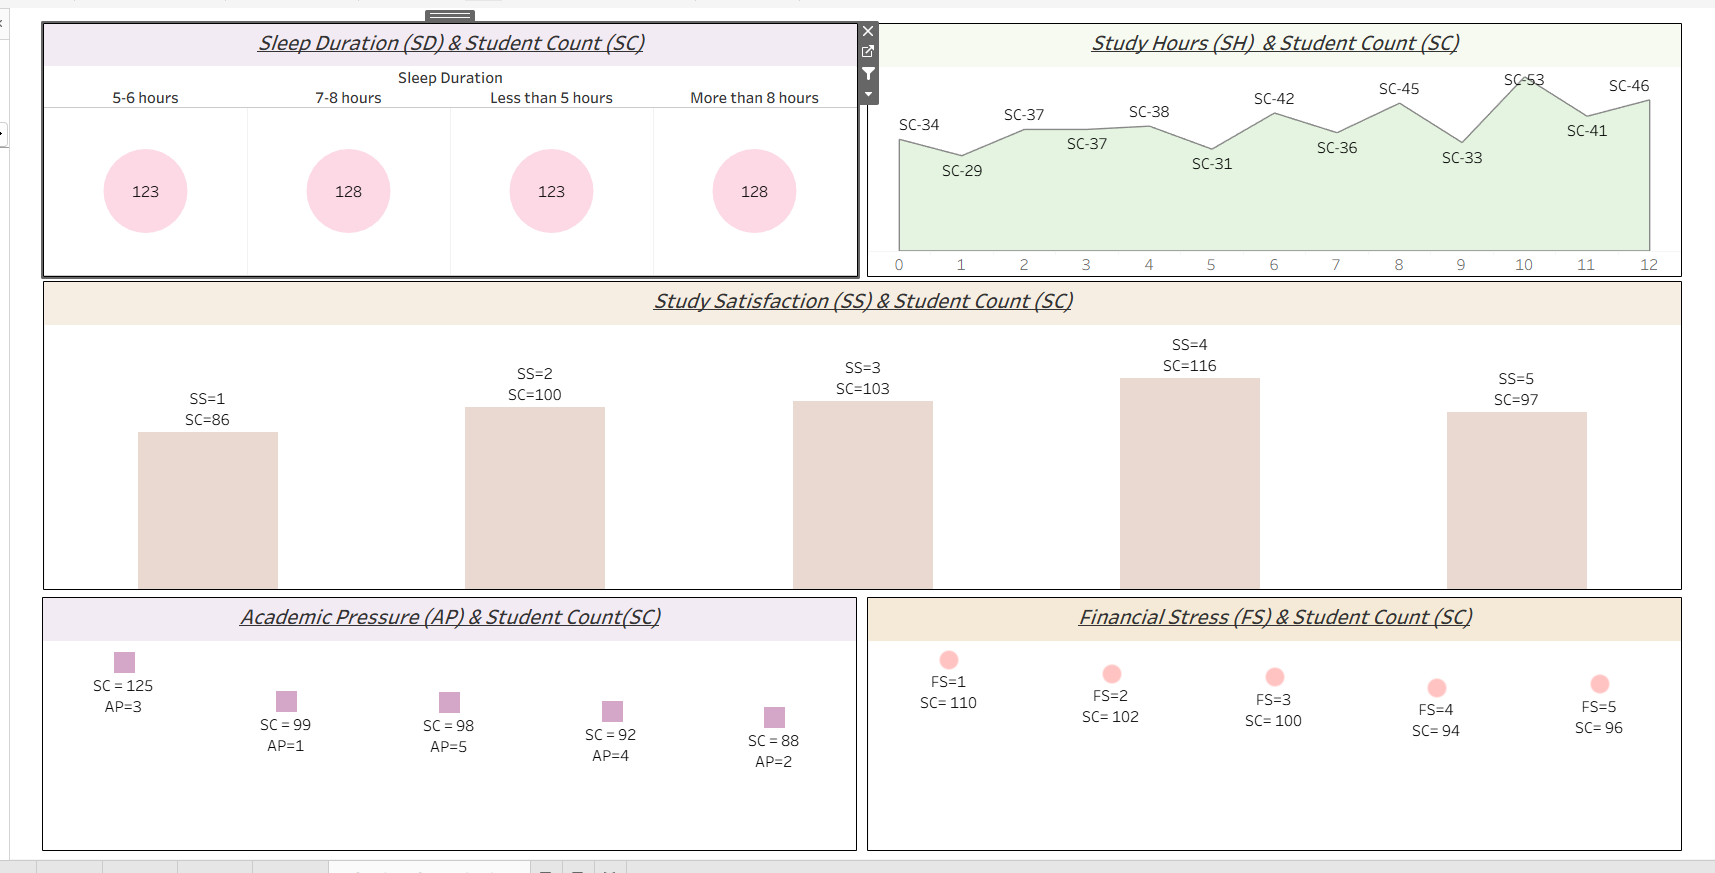

This screenshot's page, from the dashboard's own definition file:
{"tool":"tableau","page":{"name":"Student Count Analysis","canvas":[1000,1000],"units":"permille","ordinal":0},"visuals":[{"type":"worksheet","title":"SD & SC","mark":"Pie","cols":["Sleep_Duration"],"box":[19.3,17.6,477.4,298.5]},{"type":"worksheet","title":"SH & SC","mark":"Area","rows":["Index_Column"],"cols":["Study_Hours"],"box":[502.1,17.6,477.4,298.5]},{"type":"worksheet","title":"SS & SC","mark":"Automatic","rows":["Index_Column"],"cols":["Study_Satisfaction"],"box":[19.3,320.8,960.2,363.1]},{"type":"worksheet","title":"AP & SC","mark":"Square","rows":["Index_Column"],"cols":["Academic_Pressure"],"box":[18.8,692.1,477.4,298.5]},{"type":"worksheet","title":"fS &SC","mark":"Circle","rows":["Index_Column"],"cols":["Financial_Stress"],"box":[502.1,692.1,477.4,298.5]}]}

Visuals, with their boxes on the dashboard's canvas, which has no fixed pixel size, in thousandths of its width and height (x1, y1, x2, y2). These are canvas units, not pixel positions in the 1715x873 screenshot, which may show the page scaled, cropped or inside an application window:
"SD & SC" worksheet (Pie marks): [19,18,497,316]
"SH & SC" worksheet (Area marks): [502,18,980,316]
"SS & SC" worksheet: [19,321,980,684]
"AP & SC" worksheet (Square marks): [19,692,496,991]
"fS &SC" worksheet (Circle marks): [502,692,980,991]
